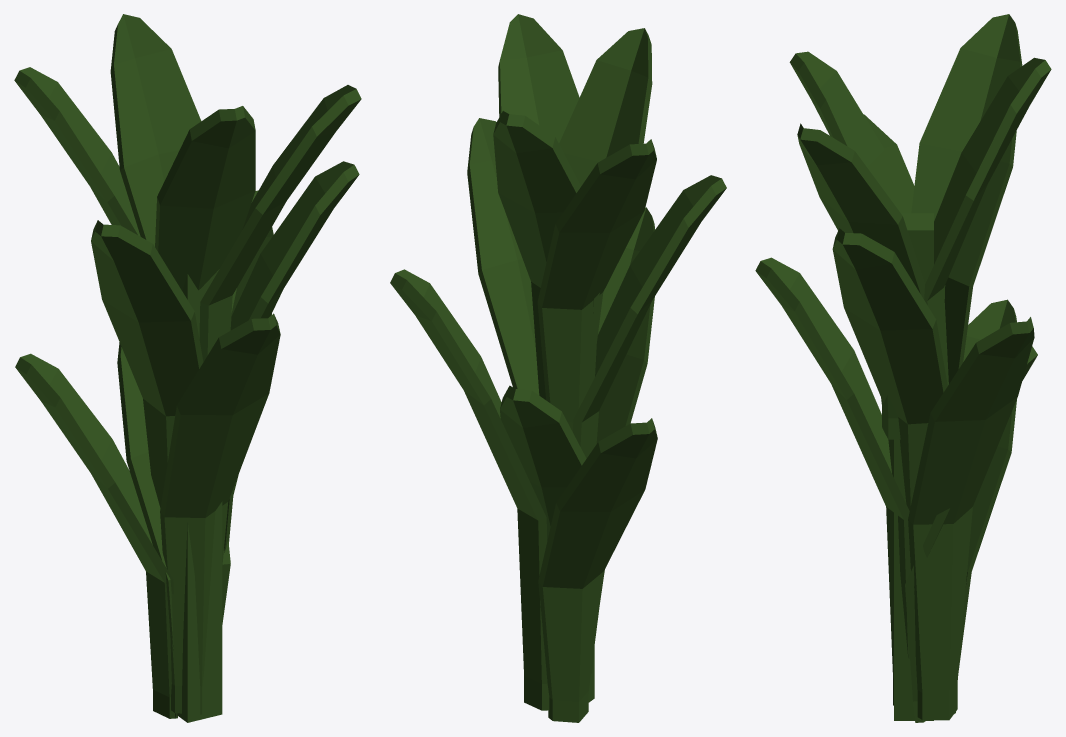
Rendered from DecorePlant6.fbx.
The picture shows the model from 3 angles, left to right: view 1: azimuth 30°, elevation 25°; view 2: azimuth 150°, elevation 25°; view 3: azimuth 270°, elevation 25°; orthographic projection. The views are drawn at different scales.
Parts seen in each view (by area): view 1: B2; view 2: B2; view 3: B2.
Part boxes in pixels (x1=…): B2: x1=14, y1=14, x2=361, y2=722; B2: x1=390, y1=14, x2=726, y2=722; B2: x1=755, y1=14, x2=1051, y2=722.
Bounding box in the file's own units: 0.7027 × 1.69 × 0.6925.
